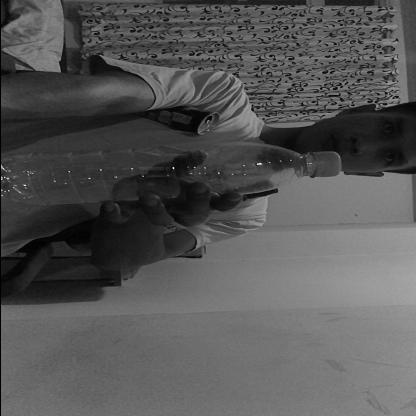alumunium_can: (134, 106, 220, 134)
plastic_bottles: (0, 138, 344, 208)
